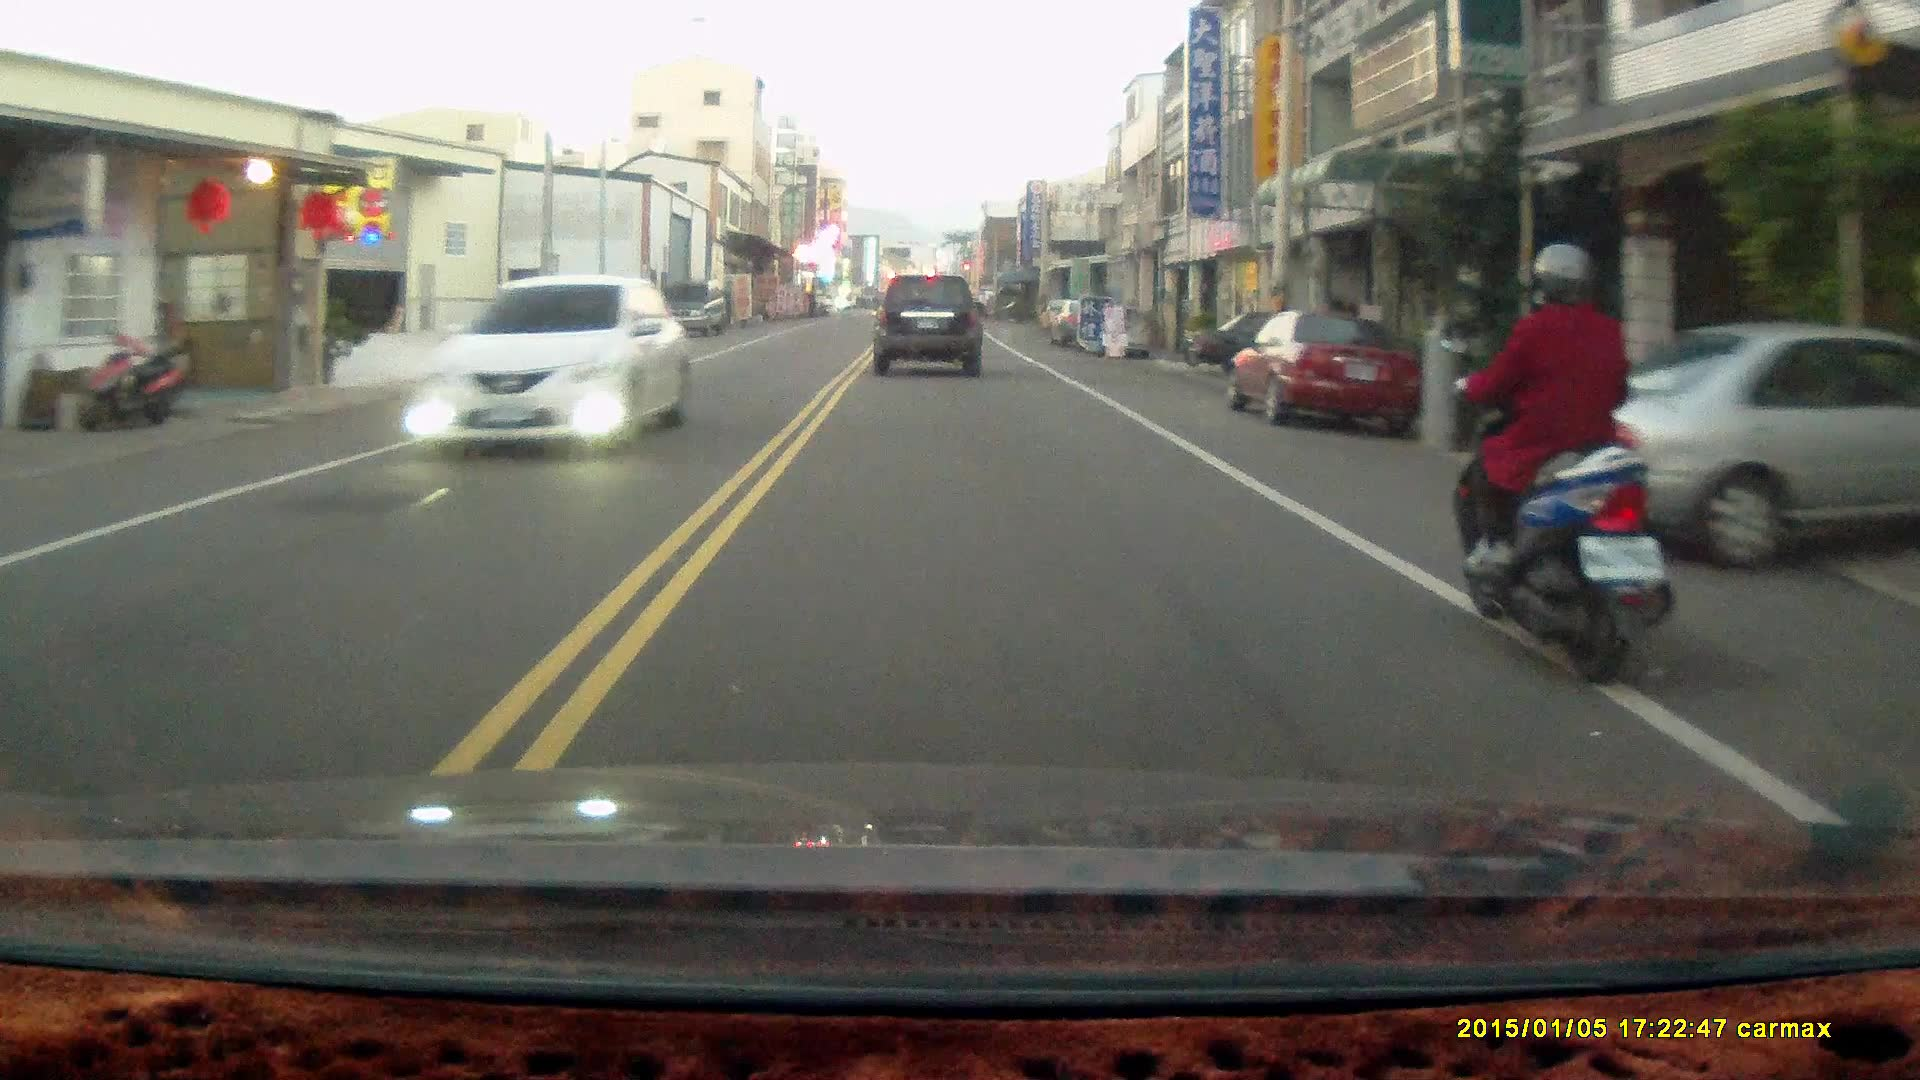rider: (1442, 241, 1681, 697)
vehicle: (1524, 329, 1920, 578), (408, 273, 695, 456), (1226, 308, 1425, 437), (875, 274, 986, 381), (656, 281, 729, 338)
